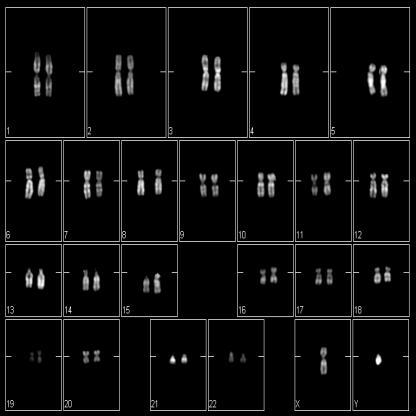1: (31, 45, 44, 100), (43, 46, 54, 102)
10: (266, 166, 278, 202), (254, 166, 265, 202)
11: (308, 164, 322, 200), (321, 166, 332, 201)
12: (367, 166, 379, 206), (379, 166, 391, 206)
13: (23, 261, 36, 294), (36, 260, 48, 295)
14: (80, 264, 92, 294), (92, 264, 104, 294)
15: (152, 268, 162, 296), (141, 270, 151, 297)
16: (268, 262, 280, 289), (258, 262, 268, 289)
17: (325, 258, 336, 290), (314, 258, 324, 292)
18: (371, 262, 382, 287), (382, 262, 392, 287)
19: (26, 346, 36, 366), (35, 346, 45, 366)
2: (113, 50, 124, 100), (124, 50, 135, 100)
20: (78, 344, 93, 368), (92, 344, 102, 368)
21: (164, 346, 178, 370), (178, 346, 192, 370)
22: (237, 344, 252, 367), (223, 344, 238, 366)
3: (210, 50, 222, 96), (200, 50, 210, 96)
4: (277, 58, 290, 102), (290, 58, 303, 102)
5: (364, 58, 376, 98), (376, 58, 388, 98)
6: (24, 162, 34, 202), (36, 162, 46, 201)
7: (80, 163, 94, 206), (93, 163, 106, 206)
8: (150, 164, 164, 200), (135, 164, 148, 200)
9: (196, 169, 208, 201), (209, 169, 221, 201)
X: (318, 342, 330, 378)
Y: (370, 345, 388, 374)
